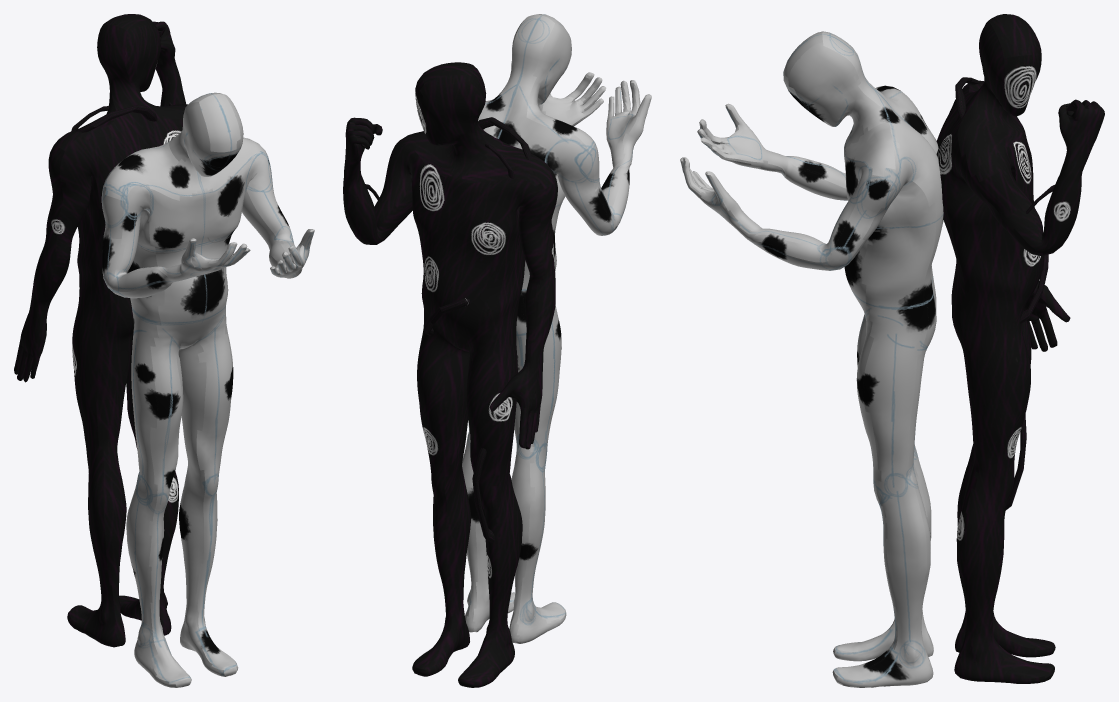
The model's file is spot.glb.
3 views of the same model, side by side, from view 1: azimuth 30°, elevation 25°; view 2: azimuth 150°, elevation 25°; view 3: azimuth 270°, elevation 25° (orthographic). The views are drawn at different scales.
Visible parts, largest first — view 1: The Spot.004; view 2: The Spot.004; view 3: The Spot.004.
Part boxes in pixels (<box>): The Spot.004: <box>14,14,314,687</box>; The Spot.004: <box>343,14,651,687</box>; The Spot.004: <box>680,14,1104,687</box>.
Size of the model in its own units: 0.6442 by 2.1 by 1.24.
3 materials, 3 textured.
